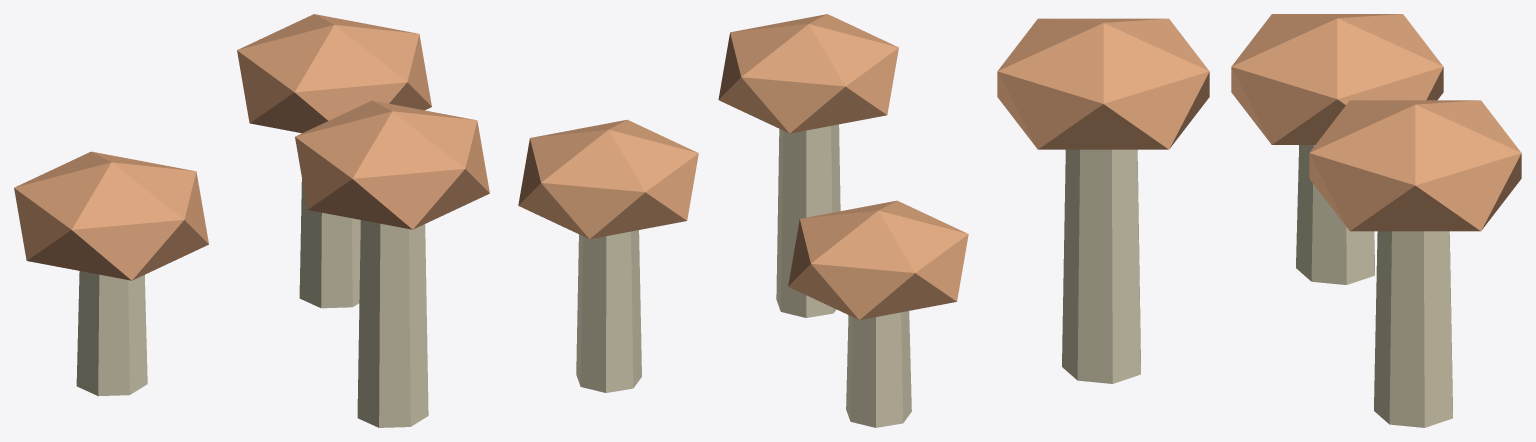
The model's file is CC_CropFungus_Growing.fbx.
The picture shows the model from 3 angles, left to right: view 1: azimuth 30°, elevation 25°; view 2: azimuth 150°, elevation 25°; view 3: azimuth 270°, elevation 25°; orthographic projection. The views are drawn at different scales.
Visible parts, largest first — view 1: Cap.006, Cap.008, Cap.007, Stem.012, Stem.010, Stem.011; view 2: Cap.006, Cap.007, Cap.008, Stem.011, Stem.012, Stem.010; view 3: Cap.007, Cap.008, Cap.006, Stem.012, Stem.011, Stem.010.
Part boxes in pixels (<box>): Cap.006: <box>14,151,208,280</box>; Cap.008: <box>295,100,489,229</box>; Cap.007: <box>237,14,431,133</box>; Stem.012: <box>357,220,428,427</box>; Stem.010: <box>76,271,147,396</box>; Stem.011: <box>299,179,360,308</box>; Cap.006: <box>788,200,968,319</box>; Cap.007: <box>518,119,698,239</box>; Cap.008: <box>718,14,898,133</box>; Stem.011: <box>576,230,641,392</box>; Stem.012: <box>776,124,840,317</box>; Stem.010: <box>846,311,911,427</box>; Cap.007: <box>1309,100,1521,231</box>; Cap.008: <box>997,18,1209,149</box>; Cap.006: <box>1231,14,1443,144</box>; Stem.012: <box>1062,149,1140,383</box>; Stem.011: <box>1374,231,1452,427</box>; Stem.010: <box>1296,145,1374,284</box>.
Size of the model in its own units: 1.08 by 0.73 by 1.01.
